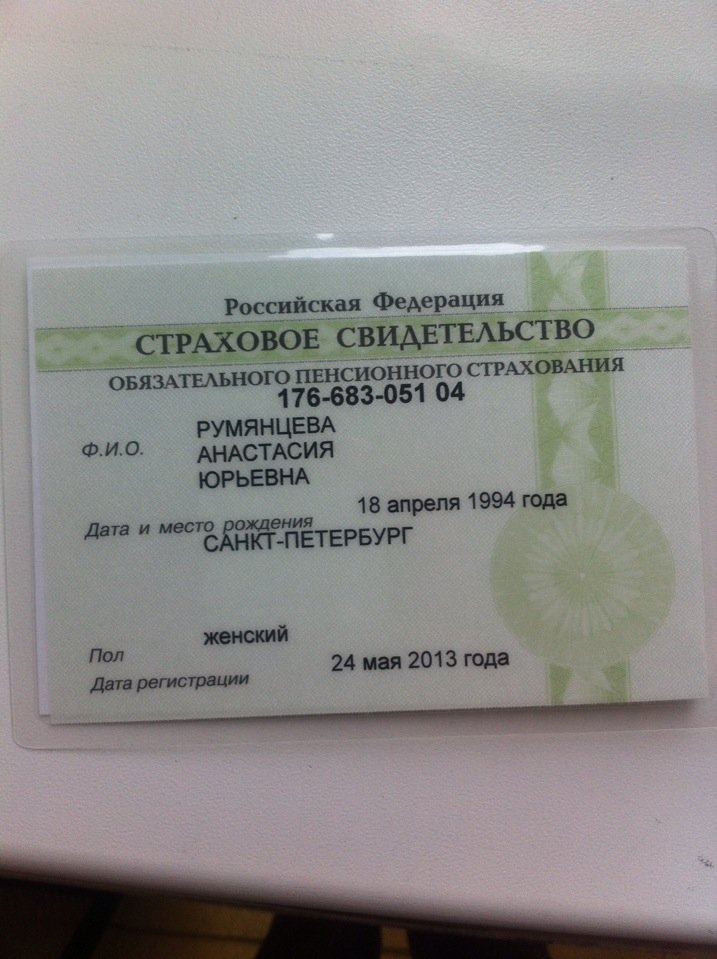text: (272, 379, 474, 408), (199, 525, 420, 550), (355, 490, 576, 514), (330, 646, 521, 673), (183, 410, 343, 437), (189, 438, 341, 462), (189, 465, 315, 489), (194, 625, 302, 650)
